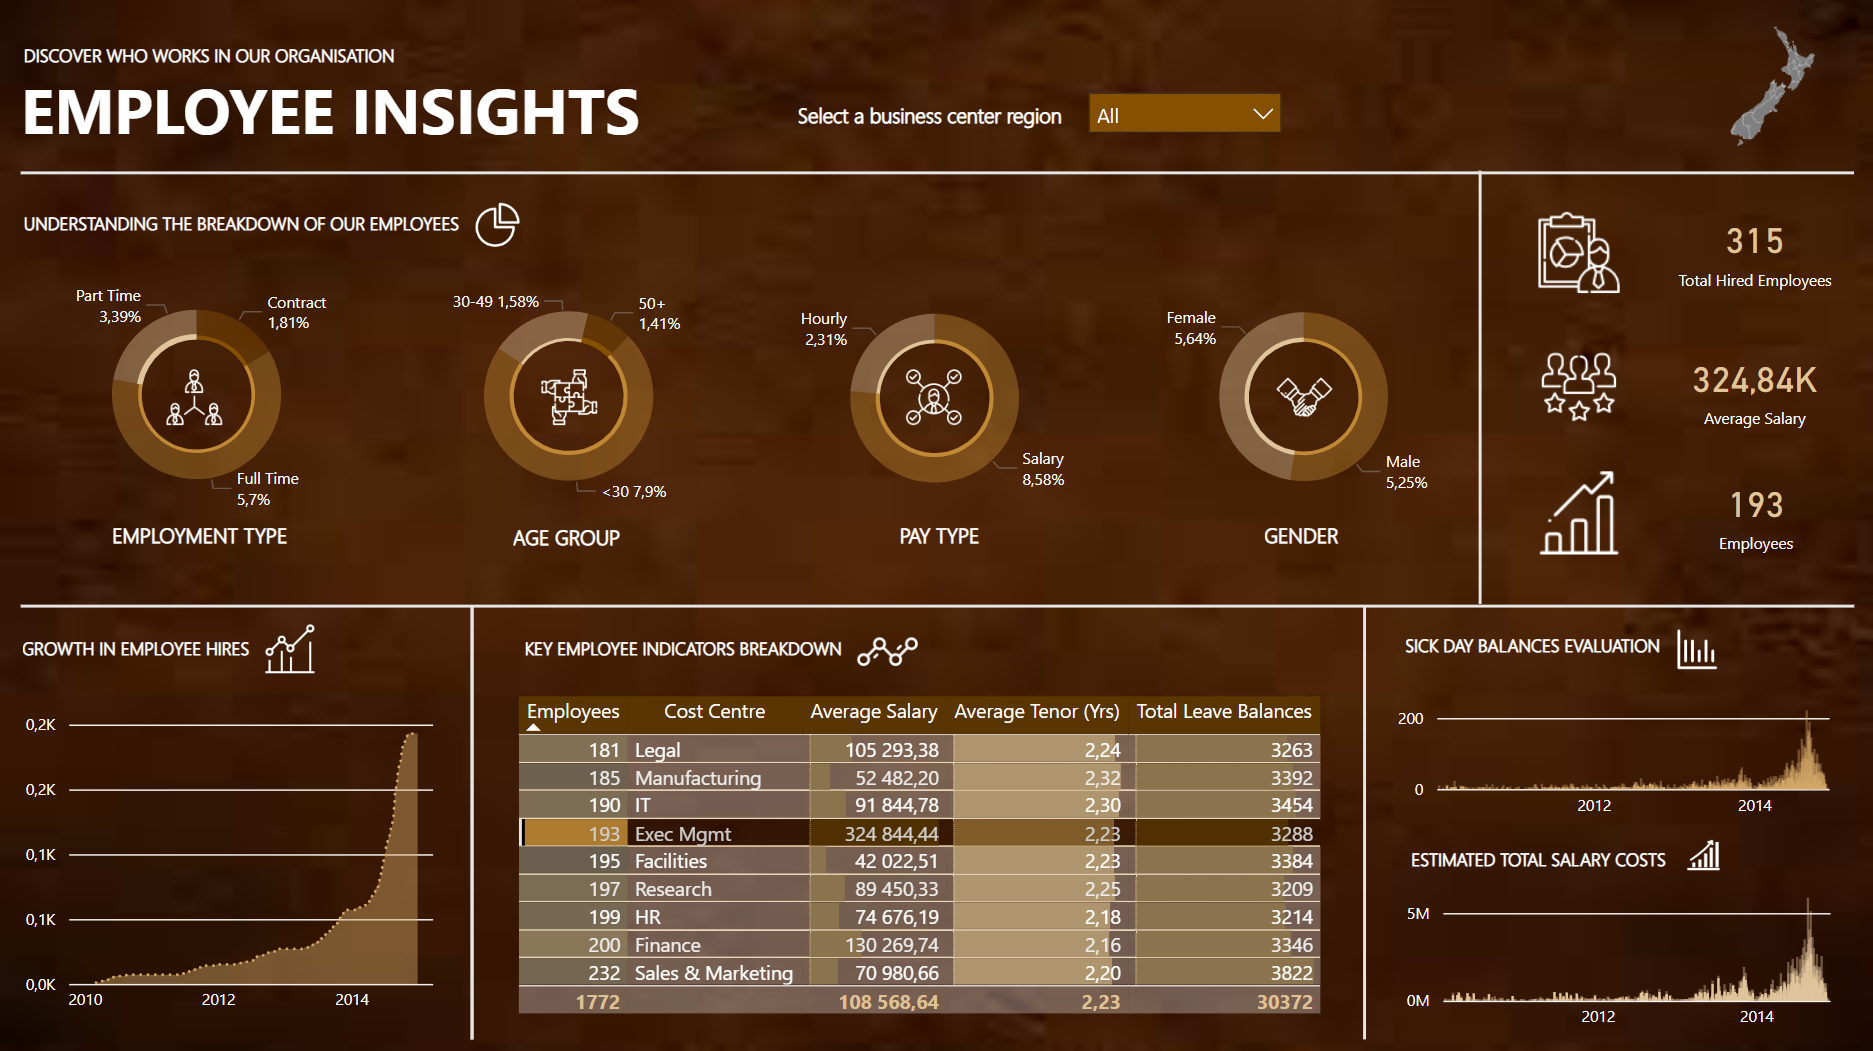

What the dashboard file says about the page in this screenshot:
{"tool":"powerbi","page":{"name":"Dashboard","canvas":[1280,720],"ordinal":0},"visuals":[{"type":"donutChart","fields":{"Y":["Key Measures.Employees"],"Category":["Employee_Data.Gender"]},"box":[784,184,208,176],"z":0},{"type":"donutChart","fields":{"Y":["Key Measures.Employees"],"Category":["Employee_Data.PayType"]},"box":[532.8,184.8,208,176],"z":1000},{"type":"donutChart","fields":{"Y":["Key Measures.Employees"],"Category":["Employee_Data.AgeGroup"]},"box":[284.9,182.4,203.8,179.2],"z":2000},{"type":"donutChart","fields":{"Y":["Key Measures.Employees"],"Series":["Employee_Data.Work Type"]},"box":[31.5,180.8,203.8,179.2],"z":3000},{"type":"textbox","box":[9.1,41.4,446.5,70.7],"z":4000},{"type":"slicer","fields":{"Values":["Employee_Data.Business Unit"]},"box":[732.1,55.3,151.1,48.4],"z":5000},{"type":"card","fields":{"Values":["Key Measures.Total Hired Employees"]},"box":[1135.5,133.6,120,76.4],"z":6000},{"type":"card","fields":{"Values":["Key Measures.Average Salary"]},"box":[1125.5,226.4,140,79.1],"z":7000},{"type":"card","fields":{"Values":["Key Measures.Employees"]},"box":[1140.9,318.2,109.1,67.3],"z":8000},{"type":"textbox","box":[11.6,24.2,305.3,33.2],"z":9000},{"type":"textbox","box":[538.9,65.8,202.1,37.9],"z":10000},{"type":"areaChart","fields":{"Category":["Dates.Date"],"Y":["Key Measures.Employees"]},"box":[12.1,481.3,289,218.7],"z":11000},{"type":"tableEx","fields":{"Values":["Key Measures.Employees","Employee_Data.Cost Centre","Key Measures.Average Salary","Key Measures.Average Tenor (Yrs)","Key Measures.Total Leave Balances"]},"box":[347.4,471.1,572.2,229.9],"z":12000},{"type":"columnChart","fields":{"Category":["Dates.Date"],"Y":["Key Measures.Total Sick Days"]},"box":[946.4,452.7,316.4,114.5],"z":13000},{"type":"columnChart","fields":{"Category":["Dates.Date"],"Y":["Key Measures.Total Salary Cost"]},"box":[952.7,598.2,310.9,113.6],"z":14000},{"type":"textbox","box":[11.3,139.2,351.5,33],"z":15000},{"type":"textbox","box":[72,352,144,32],"z":16000},{"type":"textbox","box":[344,352,111.6,32.2],"z":17000},{"type":"textbox","box":[608,352,80,32],"z":18000},{"type":"textbox","box":[856,352,72,32],"z":19000},{"type":"image","box":[163.7,422,68.1,44],"z":20000},{"type":"basicShape","box":[4.1,405.2,1269.1,18.6],"z":21000},{"type":"image","box":[1142.9,8.8,119.8,96.7],"z":22000},{"type":"image","box":[308.8,135.2,60.4,40.7],"z":23000},{"type":"image","box":[96,248,72,48],"z":24000},{"type":"image","box":[352,248,72,48],"z":25000},{"type":"image","box":[600,248,72,48],"z":26000},{"type":"image","box":[856,248,64,48],"z":27000},{"type":"basicShape","box":[4.4,110,1268.9,18.9],"z":28000},{"type":"basicShape","box":[987.2,108.8,42.4,315.2],"z":29000},{"type":"image","box":[1030.3,140.7,90.9,65.5],"z":30000},{"type":"image","box":[1032.1,318,87.3,67.3],"z":31000},{"type":"image","box":[1042.1,235.2,66.4,60.9],"z":32000},{"type":"textbox","box":[9.8,428.5,208.1,35.8],"z":33000},{"type":"textbox","box":[352,428.5,295.9,35.8],"z":34000},{"type":"image","box":[560.4,419.8,89,51.6],"z":35000},{"type":"basicShape","box":[304.9,404.9,34.1,315.4],"z":36000},{"type":"basicShape","box":[304.9,404.6,34.1,315.4],"z":37000},{"type":"basicShape","box":[912.2,404.9,34.1,315.4],"z":38000},{"type":"textbox","box":[956.2,571.9,239.1,35.9],"z":39000},{"type":"image","box":[1128,568,64,32],"z":40000},{"type":"textbox","box":[952.8,426,242.3,36.6],"z":41000},{"type":"image","box":[1120,424,72,40],"z":42000}]}

Visuals, with their boxes in screenshot pixels (x1, y1, x2, y2), scaled from the page's 1280x720 canvas onto the 1873x1051 screenshot:
donutChart - Key Measures.Employees x Employee_Data.Gender: (x1=1147, y1=269, x2=1452, y2=526)
donutChart - Key Measures.Employees x Employee_Data.PayType: (x1=780, y1=270, x2=1084, y2=527)
donutChart - Key Measures.Employees x Employee_Data.AgeGroup: (x1=417, y1=266, x2=715, y2=528)
donutChart - Key Measures.Employees x Employee_Data.Work Type: (x1=46, y1=264, x2=344, y2=526)
textbox: (x1=13, y1=60, x2=667, y2=164)
slicer - Employee_Data.Business Unit: (x1=1071, y1=81, x2=1292, y2=151)
card - Key Measures.Total Hired Employees: (x1=1662, y1=195, x2=1837, y2=307)
card - Key Measures.Average Salary: (x1=1647, y1=330, x2=1852, y2=446)
card - Key Measures.Employees: (x1=1669, y1=464, x2=1829, y2=563)
textbox: (x1=17, y1=35, x2=464, y2=84)
textbox: (x1=789, y1=96, x2=1084, y2=151)
areaChart - Dates.Date x Key Measures.Employees: (x1=18, y1=703, x2=441, y2=1022)
tableEx - Key Measures.Employees x Employee_Data.Cost Centre: (x1=508, y1=688, x2=1346, y2=1023)
columnChart - Dates.Date x Key Measures.Total Sick Days: (x1=1385, y1=661, x2=1848, y2=828)
columnChart - Dates.Date x Key Measures.Total Salary Cost: (x1=1394, y1=873, x2=1849, y2=1039)
textbox: (x1=17, y1=203, x2=531, y2=251)
textbox: (x1=105, y1=514, x2=316, y2=561)
textbox: (x1=503, y1=514, x2=667, y2=561)
textbox: (x1=890, y1=514, x2=1007, y2=561)
textbox: (x1=1253, y1=514, x2=1358, y2=561)
image: (x1=240, y1=616, x2=339, y2=680)
basicShape: (x1=6, y1=591, x2=1863, y2=619)
image: (x1=1672, y1=13, x2=1848, y2=154)
image: (x1=452, y1=197, x2=540, y2=257)
image: (x1=140, y1=362, x2=246, y2=432)
image: (x1=515, y1=362, x2=620, y2=432)
image: (x1=878, y1=362, x2=983, y2=432)
image: (x1=1253, y1=362, x2=1346, y2=432)
basicShape: (x1=6, y1=161, x2=1863, y2=188)
basicShape: (x1=1445, y1=159, x2=1507, y2=619)
image: (x1=1508, y1=205, x2=1641, y2=301)
image: (x1=1510, y1=464, x2=1638, y2=562)
image: (x1=1525, y1=343, x2=1622, y2=432)
textbox: (x1=14, y1=625, x2=319, y2=678)
textbox: (x1=515, y1=625, x2=948, y2=678)
image: (x1=820, y1=613, x2=950, y2=688)
basicShape: (x1=446, y1=591, x2=496, y2=1050)
basicShape: (x1=446, y1=591, x2=496, y2=1050)
basicShape: (x1=1335, y1=591, x2=1385, y2=1050)
textbox: (x1=1399, y1=835, x2=1749, y2=887)
image: (x1=1651, y1=829, x2=1744, y2=876)
textbox: (x1=1394, y1=622, x2=1749, y2=675)
image: (x1=1639, y1=619, x2=1744, y2=677)
